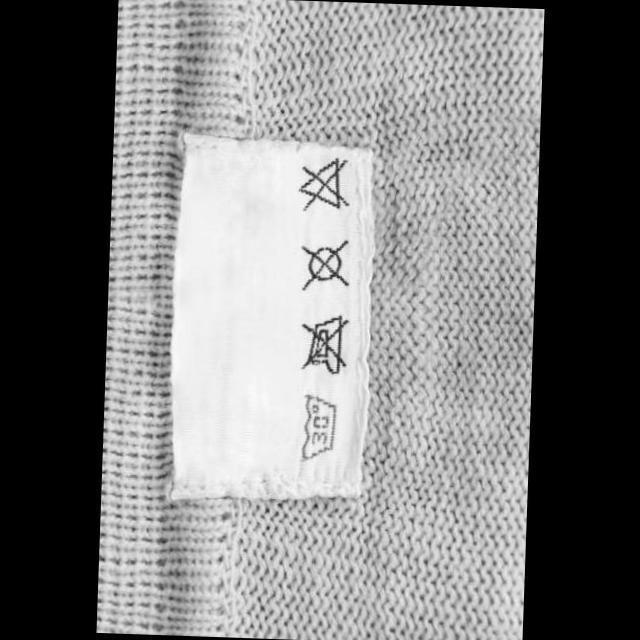30C: (294, 386, 342, 466)
DN_bleach: (294, 156, 352, 214)
DN_dry_clean: (297, 234, 353, 294)
DN_iron: (297, 308, 351, 378)
